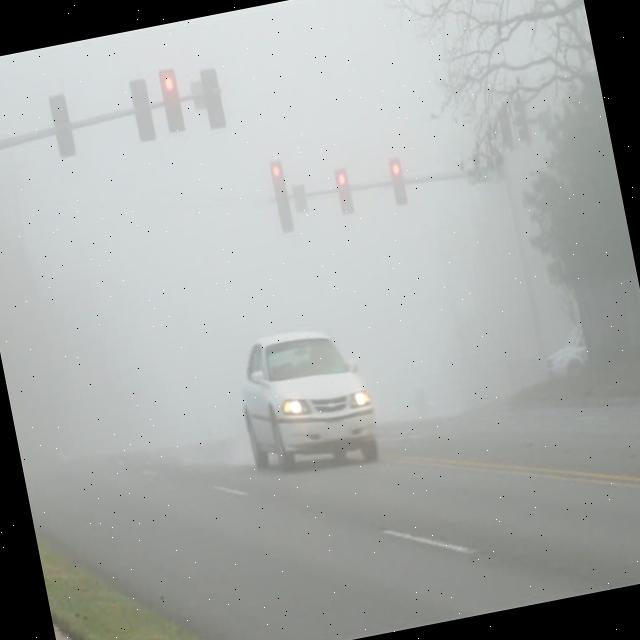car: (230, 320, 386, 484), (538, 314, 592, 382)
